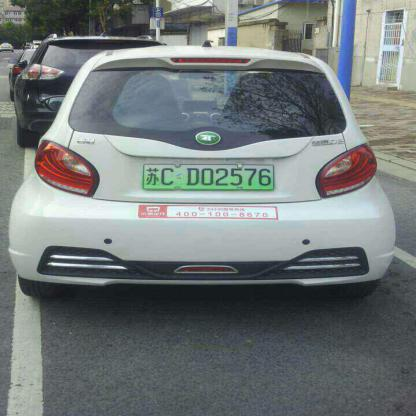lp: (143, 165, 273, 190)
